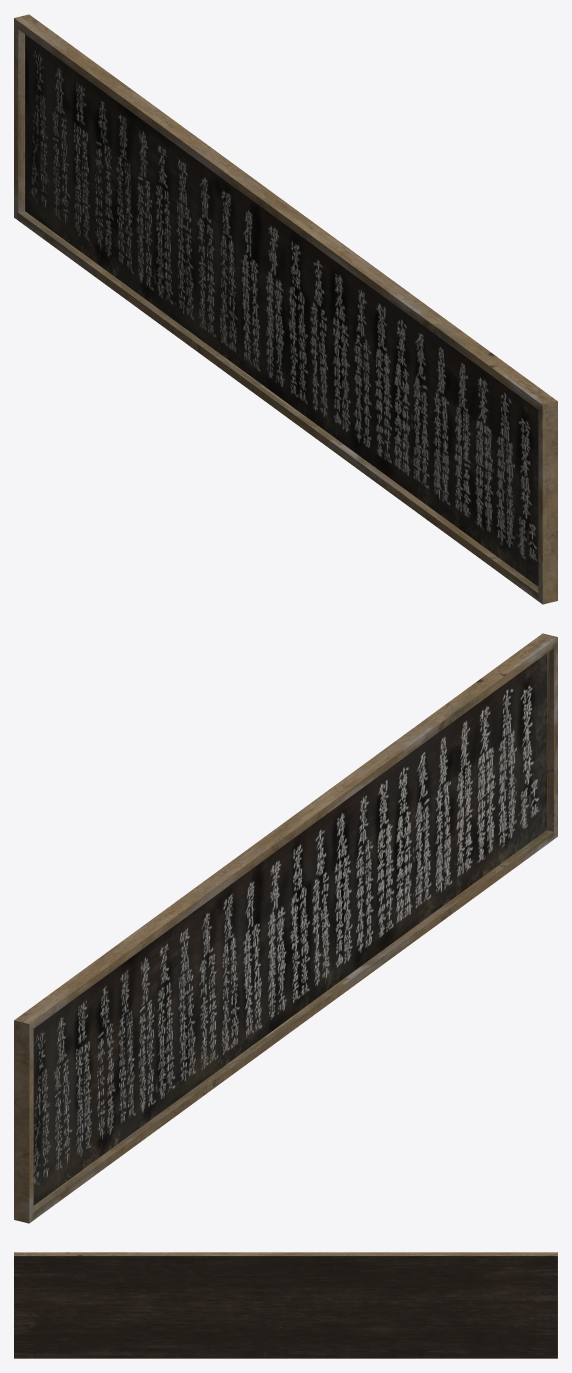
Rendered from SM_JWD_Tablet01b.fbx.
3 renders of one model, top to bottom at view 1: azimuth 30°, elevation 25°; view 2: azimuth 150°, elevation 25°; view 3: azimuth 270°, elevation 25°, orthographic. The views are drawn at different scales.
Visible parts, largest first — view 1: SM_JWD_Tablet01b; view 2: SM_JWD_Tablet01b; view 3: SM_JWD_Tablet01b.
Boxes of the visible parts, x1,y1,x2,y2 form: SM_JWD_Tablet01b: (14, 14, 557, 604); SM_JWD_Tablet01b: (14, 633, 557, 1223); SM_JWD_Tablet01b: (14, 1252, 557, 1358).
Bounding box in the file's own units: 4 × 240 × 50.
1 material, 1 textured.
